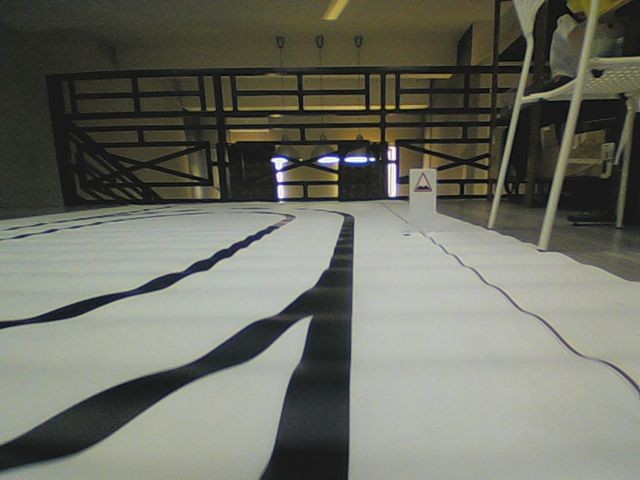Nerov: (413, 171, 433, 193)
